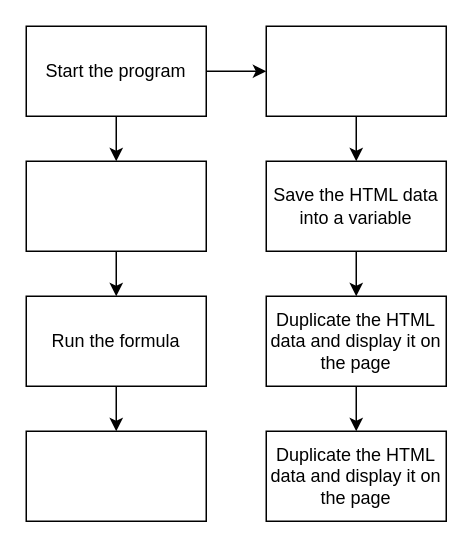
The diagram is 473 pixels wide and 548 high, and some of its shapes have lost their labels. The centre of each missing label's shape, as x and y in pixels:
"Add new game button" goes at pixel 355 70.
"Display the result" goes at pixel 115 475.
"Get the user input" goes at pixel 115 205.
